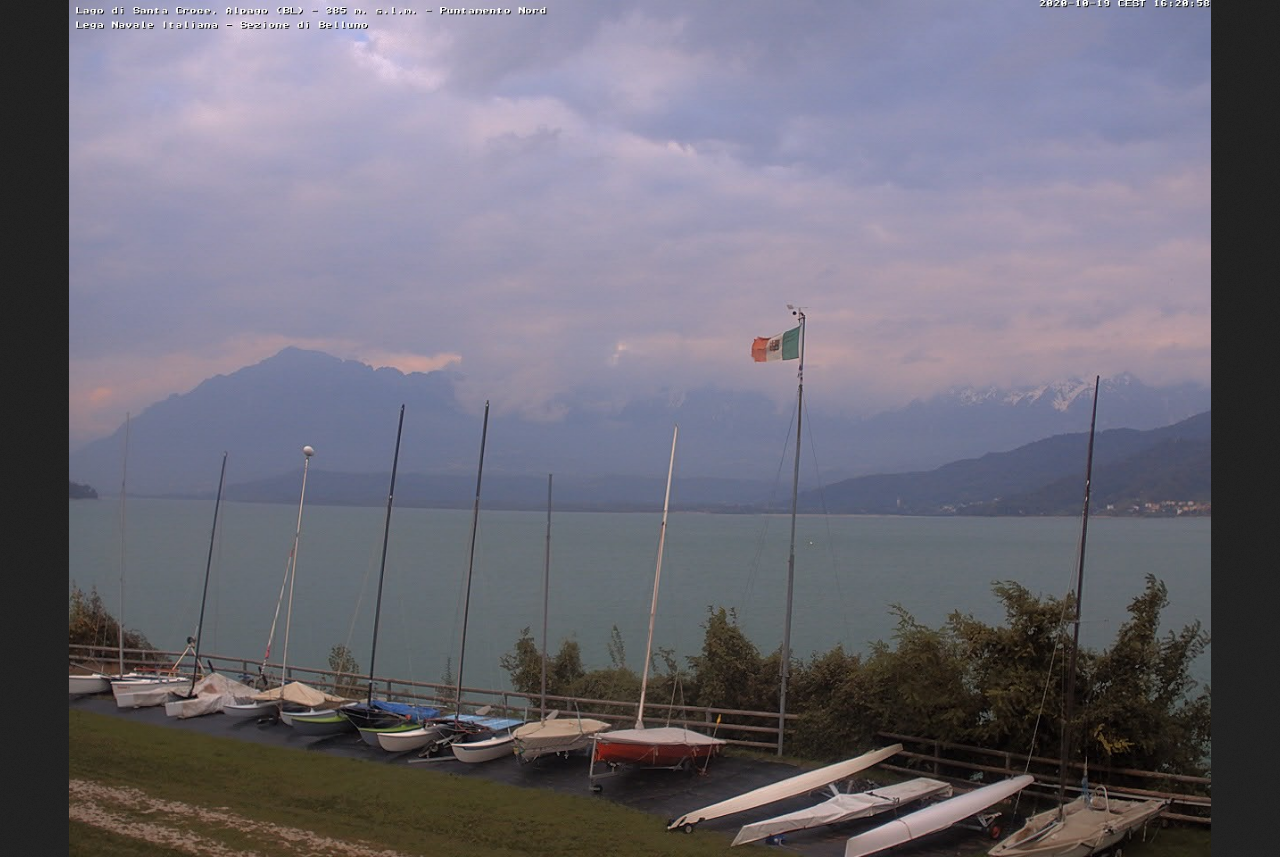yes: (748, 320, 807, 368)
